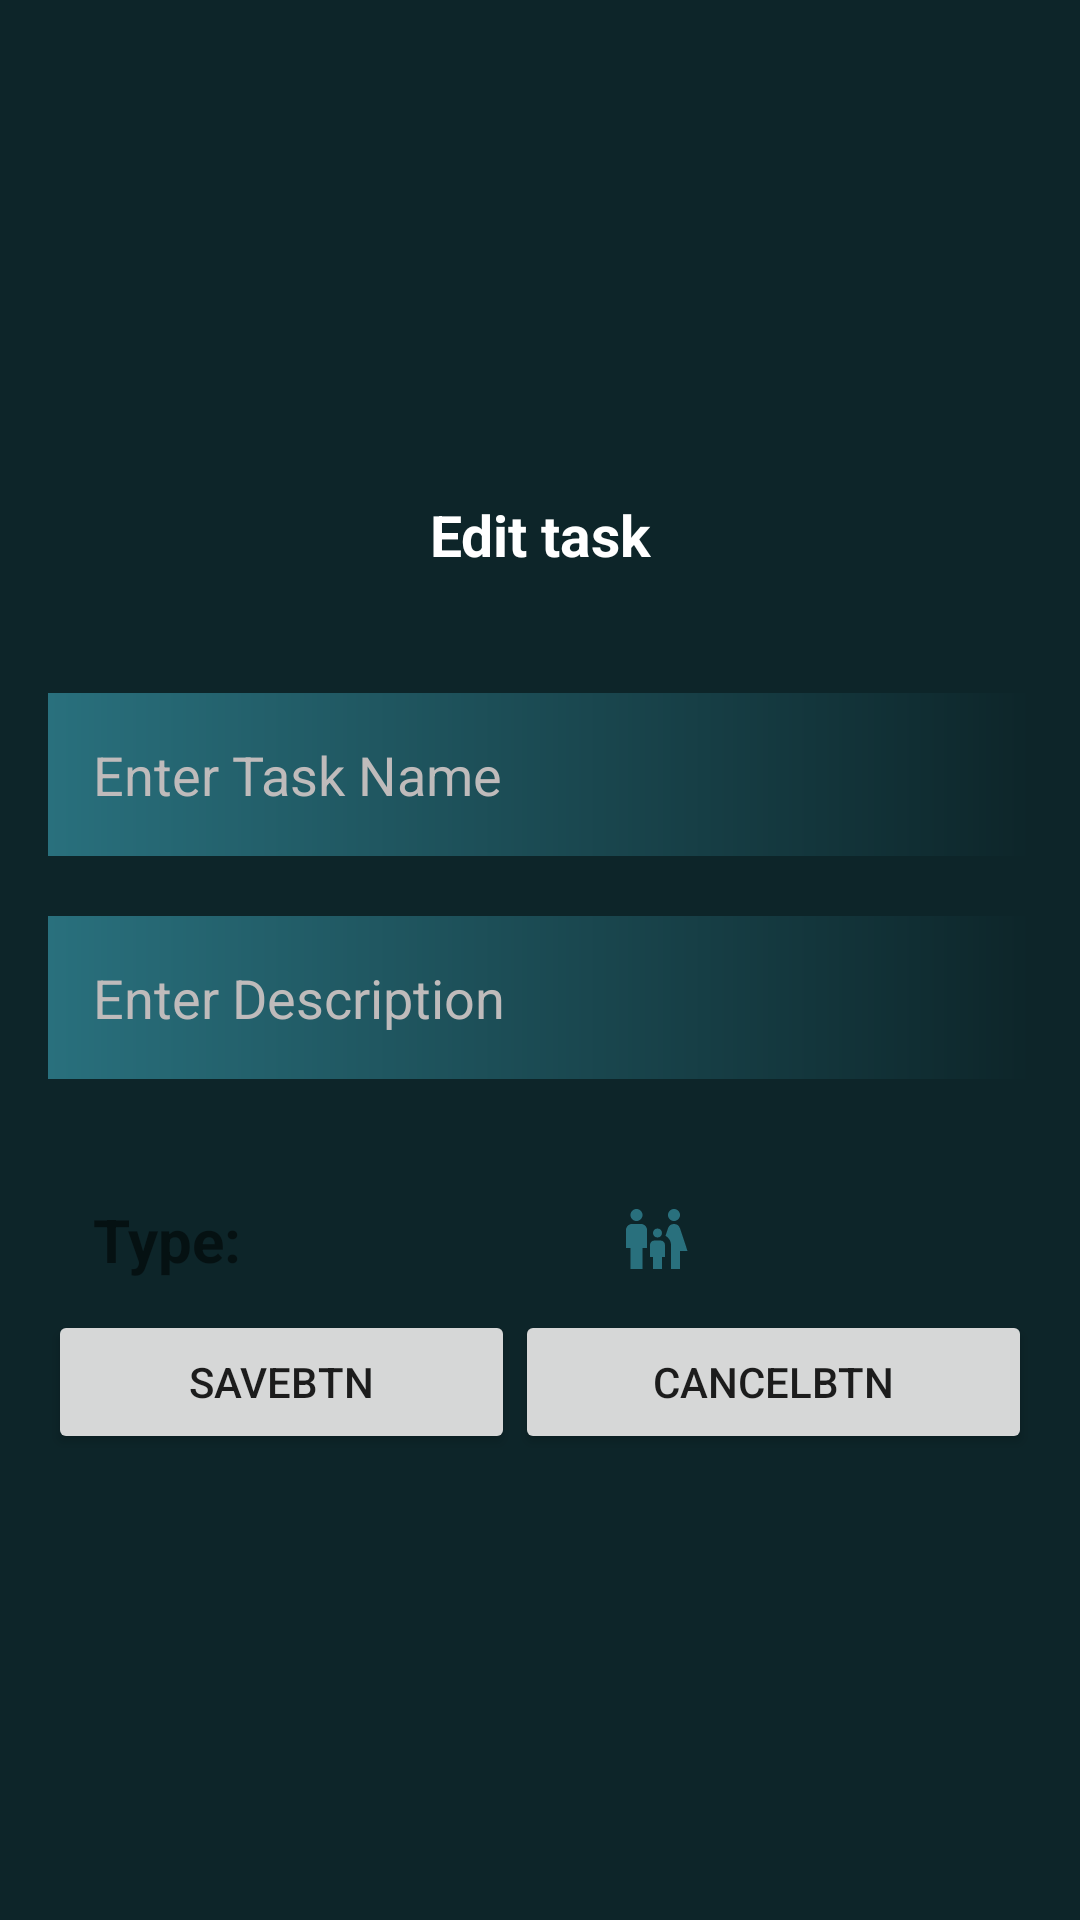

Point at icon controls on the screen. Image size 1080 x 1920, points as [x,y].
family: [657,1239]
